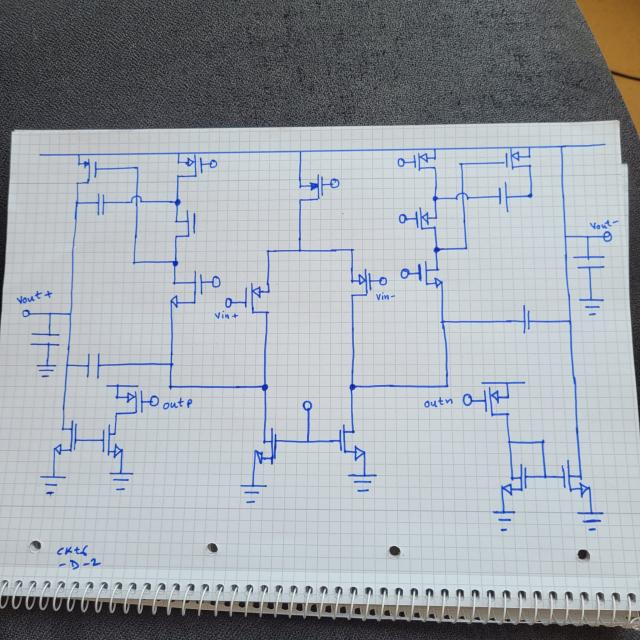capacitor: (570, 251, 608, 273), (26, 330, 64, 349), (83, 351, 103, 382), (518, 302, 532, 335), (496, 181, 510, 211), (94, 191, 108, 217)
crossover: (454, 190, 470, 202), (130, 194, 142, 203)
ground: (238, 479, 270, 504), (37, 472, 68, 497), (347, 470, 376, 494), (575, 510, 605, 532), (491, 508, 517, 532), (107, 469, 134, 492), (578, 296, 606, 317), (32, 360, 58, 381)
junction: (260, 381, 270, 392), (172, 197, 182, 207), (170, 257, 180, 267), (62, 360, 72, 370), (348, 382, 357, 391), (538, 437, 547, 446), (432, 245, 441, 254), (438, 318, 447, 327), (566, 316, 574, 326), (304, 436, 312, 446), (431, 194, 439, 203), (526, 190, 534, 199), (167, 360, 175, 369), (541, 472, 549, 480), (72, 198, 80, 206), (457, 160, 465, 168), (296, 246, 304, 254), (505, 438, 513, 446), (558, 142, 566, 150), (443, 382, 451, 390), (166, 384, 175, 391), (130, 258, 137, 266), (462, 244, 470, 251), (132, 164, 140, 171), (296, 148, 304, 155), (46, 310, 54, 317), (264, 248, 271, 255), (74, 152, 82, 158), (348, 246, 355, 252), (562, 233, 568, 240), (67, 310, 73, 317), (176, 150, 182, 157), (431, 146, 437, 152), (526, 145, 533, 150)
terminal: (480, 375, 525, 387), (461, 392, 474, 407), (106, 383, 140, 388), (210, 274, 222, 288), (327, 177, 340, 189), (395, 156, 408, 168), (400, 266, 410, 281), (301, 399, 313, 411), (149, 394, 159, 408), (602, 230, 612, 242), (208, 158, 218, 169), (224, 297, 233, 309), (397, 213, 407, 223), (378, 276, 388, 286), (598, 139, 607, 149), (21, 309, 31, 317), (36, 152, 43, 158)
text: (15, 289, 53, 305), (161, 396, 193, 411), (423, 396, 454, 409), (589, 218, 619, 230), (213, 310, 239, 321), (374, 291, 396, 302)
transistor: (552, 456, 596, 498), (167, 270, 205, 309), (333, 422, 369, 462), (248, 426, 283, 466), (495, 461, 533, 496), (479, 385, 513, 424), (242, 280, 276, 318), (49, 419, 82, 457), (97, 422, 128, 462), (342, 267, 376, 303), (412, 258, 447, 292), (167, 208, 200, 243), (110, 387, 148, 417), (68, 157, 102, 190), (292, 172, 326, 205), (500, 144, 536, 174), (408, 204, 440, 236), (172, 152, 205, 182), (410, 149, 444, 175)
